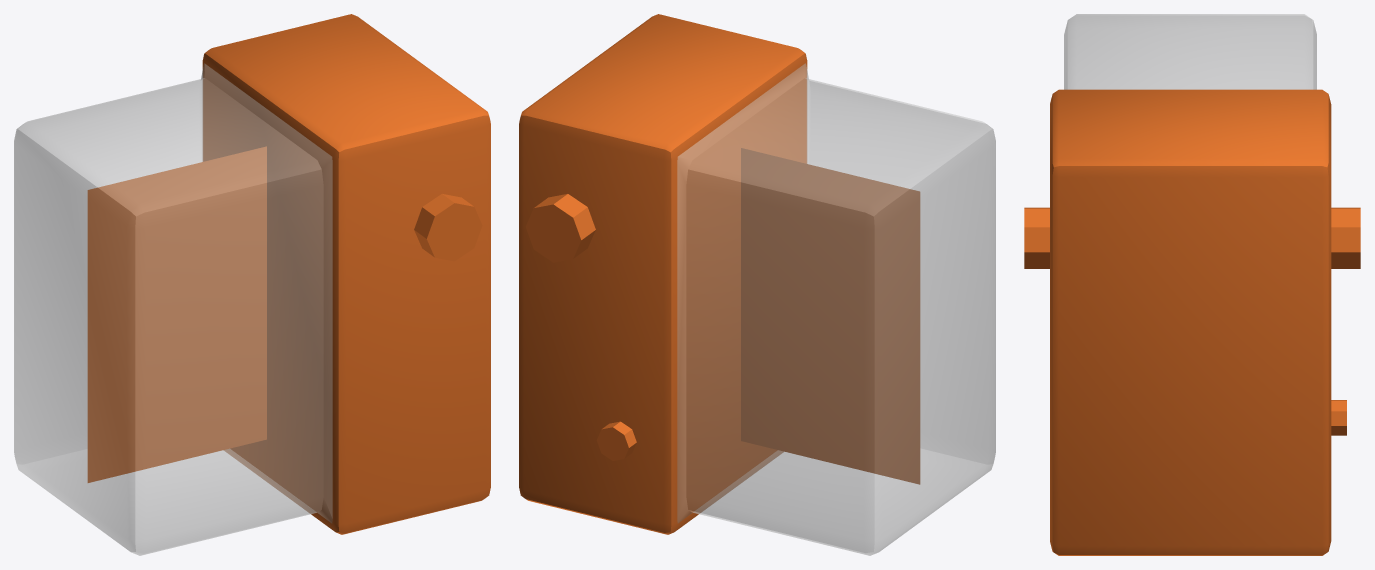
The model's file is Signaling devices.fbx.
3 views of the same model, side by side, from view 1: azimuth 30°, elevation 25°; view 2: azimuth 150°, elevation 25°; view 3: azimuth 270°, elevation 25° (orthographic).
Visible parts, largest first — view 1: Signaling Device.005; view 2: Signaling Device.005; view 3: Signaling Device.005.
Part boxes in pixels (left/top/right/bottom): Signaling Device.005: left=14, top=14, right=490, bottom=555; Signaling Device.005: left=519, top=14, right=995, bottom=555; Signaling Device.005: left=1024, top=14, right=1360, bottom=555.
Bounding box in the file's own units: 16.12 × 17.01 × 13.06.
